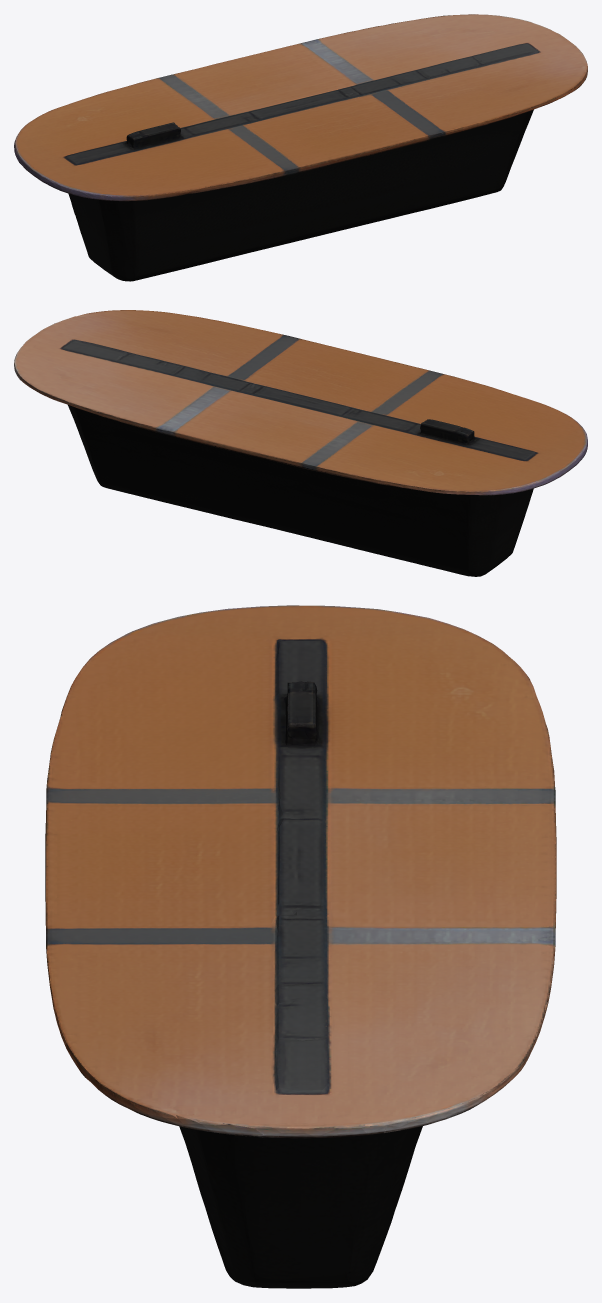
The model's file is middle table v2.fbx.
3 views of the same model, one above another, from view 1: azimuth 30°, elevation 25°; view 2: azimuth 150°, elevation 25°; view 3: azimuth 270°, elevation 25° (orthographic). The views are drawn at different scales.
Parts seen in each view (by area): view 1: world; view 2: world; view 3: world.
Boxes of the visible parts, x1,y1,x2,y2 form: world: (14, 14, 587, 281); world: (14, 310, 587, 576); world: (45, 605, 556, 1288).
Bounding box in the file's own units: 1 × 0.2316 × 0.4133.
1 material, 1 textured.
